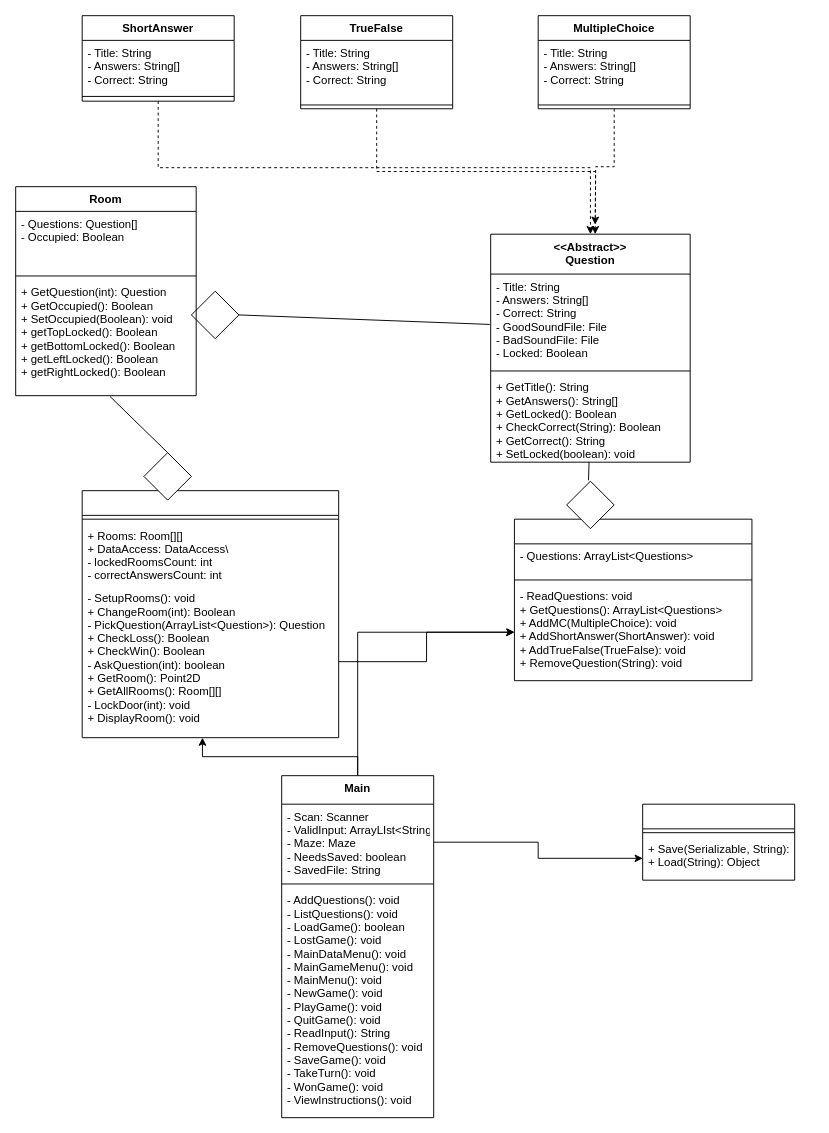
Image size: 829x1133. Some labels were removed from this diagram. Here are the shapes that lost their labels. From the top down, the box of each, then its label:
(81, 490, 339, 738): Maze
(513, 518, 752, 681): DataAccess
(642, 803, 795, 880): ResourceManager
